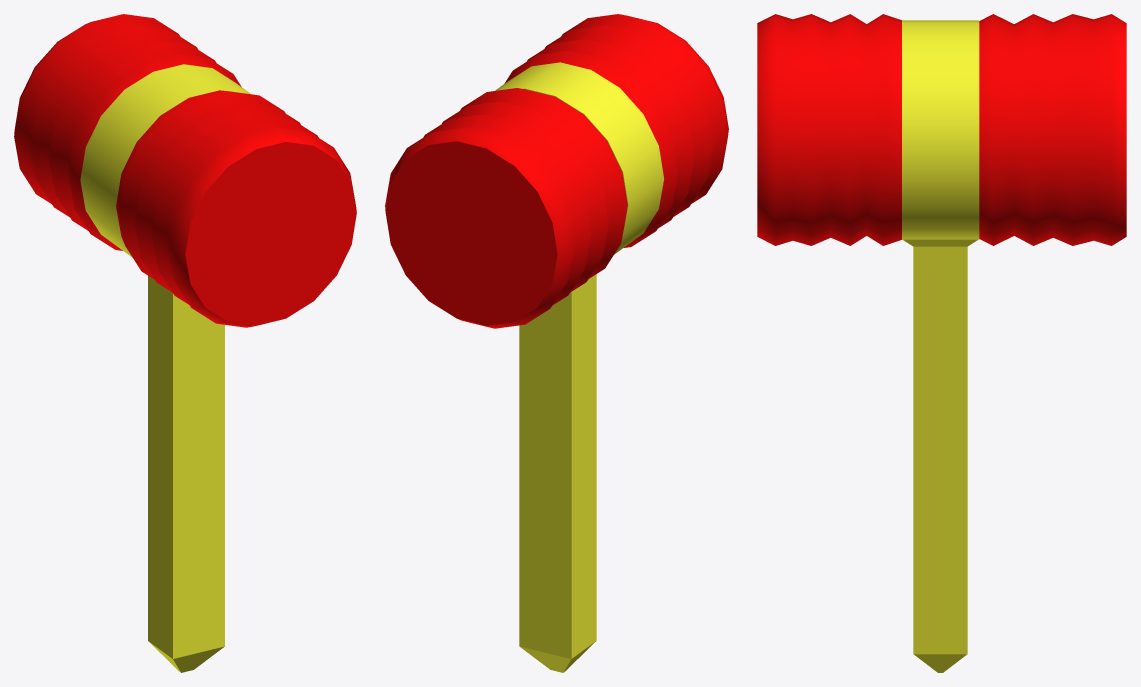
The model's file is Squeaky Hammer.fbx.
3 views of the same model, side by side, from view 1: azimuth 30°, elevation 25°; view 2: azimuth 150°, elevation 25°; view 3: azimuth 270°, elevation 25° (orthographic). The views are drawn at different scales.
Parts seen in each view (by area): view 1: squeakyHammerBase, squeakyHammerHandle, squeakyHammerSupport; view 2: squeakyHammerBase, squeakyHammerHandle, squeakyHammerSupport; view 3: squeakyHammerBase, squeakyHammerHandle, squeakyHammerSupport.
Boxes of the visible parts, x1,y1,x2,y2 form: squeakyHammerBase: [14, 14, 356, 327]; squeakyHammerHandle: [148, 276, 224, 672]; squeakyHammerSupport: [80, 64, 250, 257]; squeakyHammerBase: [385, 14, 728, 328]; squeakyHammerHandle: [519, 274, 596, 672]; squeakyHammerSupport: [495, 62, 663, 254]; squeakyHammerBase: [757, 14, 1126, 245]; squeakyHammerHandle: [903, 239, 977, 672]; squeakyHammerSupport: [902, 20, 979, 239].
Bounding box in the file's own units: 38.02 × 116 × 60.3.
Materials: 2 (2 with a texture image).
